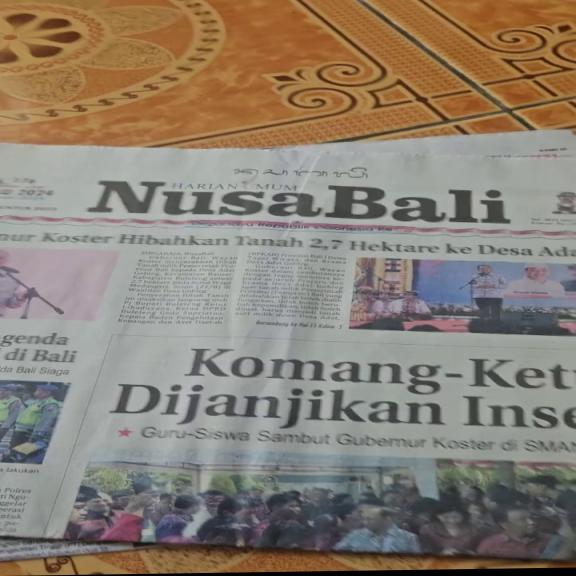Kertas: (2, 146, 566, 555)
